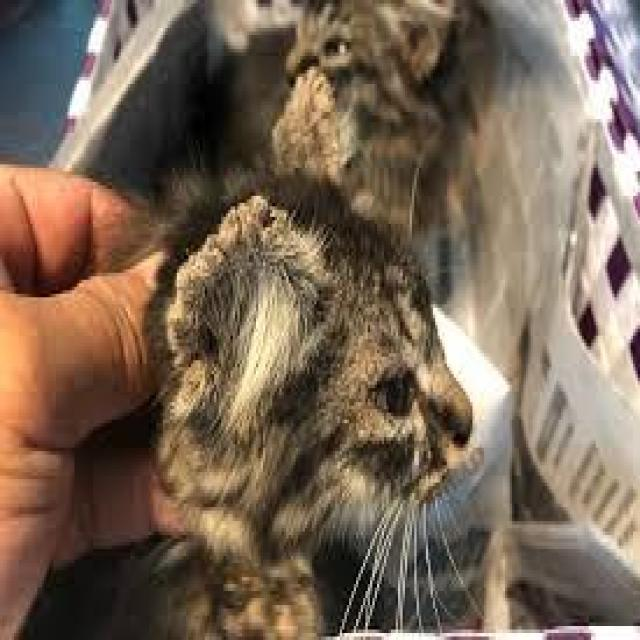ghe: (160, 202, 322, 345)
